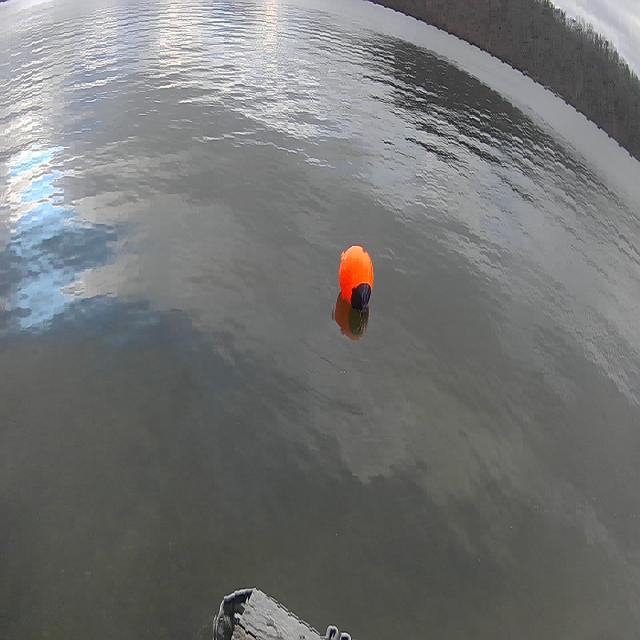Buoy: (332, 232, 380, 320)
